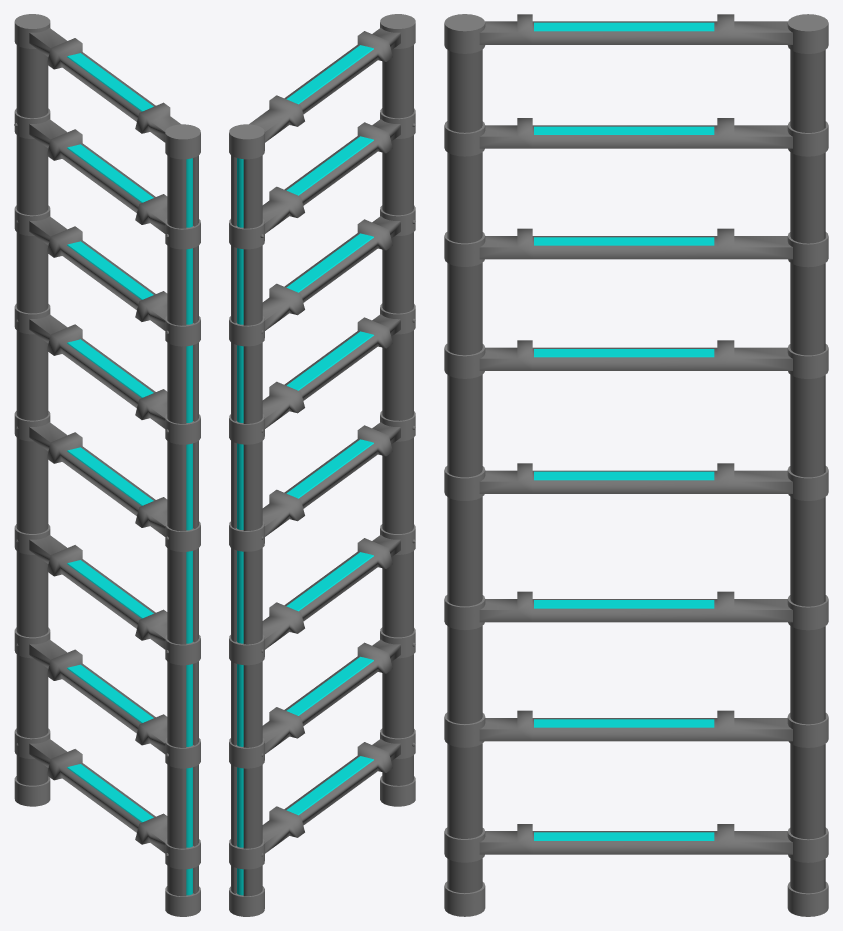
File: MonkeyStair (1).fbx
3 renders of one model, left to right at view 1: azimuth 30°, elevation 25°; view 2: azimuth 150°, elevation 25°; view 3: azimuth 270°, elevation 25°, orthographic. The views are drawn at different scales.
Parts seen in each view (by area): view 1: pCylinder1, pCylinder11, pCylinder20, pCube13, pCube5, pCube1, pCube15, pCube7, pCube11, pCube3, pCube9, pCylinder19 (+25 smaller); view 2: pCylinder11, pCylinder1, pCylinder10, pCube13, pCube1, pCube5, pCube3, pCube9, pCube11, pCube15, pCube7, pCylinder9 (+25 smaller); view 3: pCylinder1, pCylinder11, pCube11, pCube3, pCube5, pCube1, pCube15, pCube7, pCube9, pCube13, pCube8, pCube14 (+24 smaller).
Part boxes in pixels (x1,y1,x2,y2): pCylinder1: [16, 45, 48, 785]; pCylinder11: [167, 155, 198, 896]; pCylinder20: [186, 158, 192, 895]; pCube13: [29, 28, 180, 142]; pCube5: [29, 535, 167, 649]; pCube1: [29, 739, 167, 853]; pCube15: [29, 119, 167, 233]; pCube7: [29, 422, 167, 536]; pCube11: [29, 216, 167, 330]; pCube3: [29, 639, 167, 753]; pCube9: [29, 314, 167, 428]; pCylinder19: [165, 124, 200, 159]; pCylinder11: [382, 45, 413, 785]; pCylinder1: [231, 155, 262, 896]; pCylinder10: [237, 158, 243, 895]; pCube13: [249, 28, 400, 142]; pCube1: [262, 739, 400, 853]; pCube5: [262, 535, 400, 649]; pCube3: [262, 639, 400, 753]; pCube9: [262, 314, 400, 428]; pCube11: [262, 216, 400, 330]; pCube15: [262, 119, 400, 233]; pCube7: [262, 422, 400, 536]; pCylinder9: [229, 124, 264, 159]; pCylinder1: [790, 50, 825, 893]; pCylinder11: [447, 49, 482, 893]; pCube11: [479, 228, 792, 259]; pCube3: [479, 710, 792, 741]; pCube5: [479, 591, 792, 622]; pCube1: [479, 824, 792, 854]; pCube15: [479, 118, 792, 148]; pCube7: [479, 463, 792, 493]; pCube9: [479, 340, 792, 370]; pCube13: [479, 14, 792, 44]; pCube8: [534, 471, 714, 480]; pCube14: [534, 22, 714, 31].
Bounding box in the file's own units: 0.4543 × 10.02 × 3.92.
